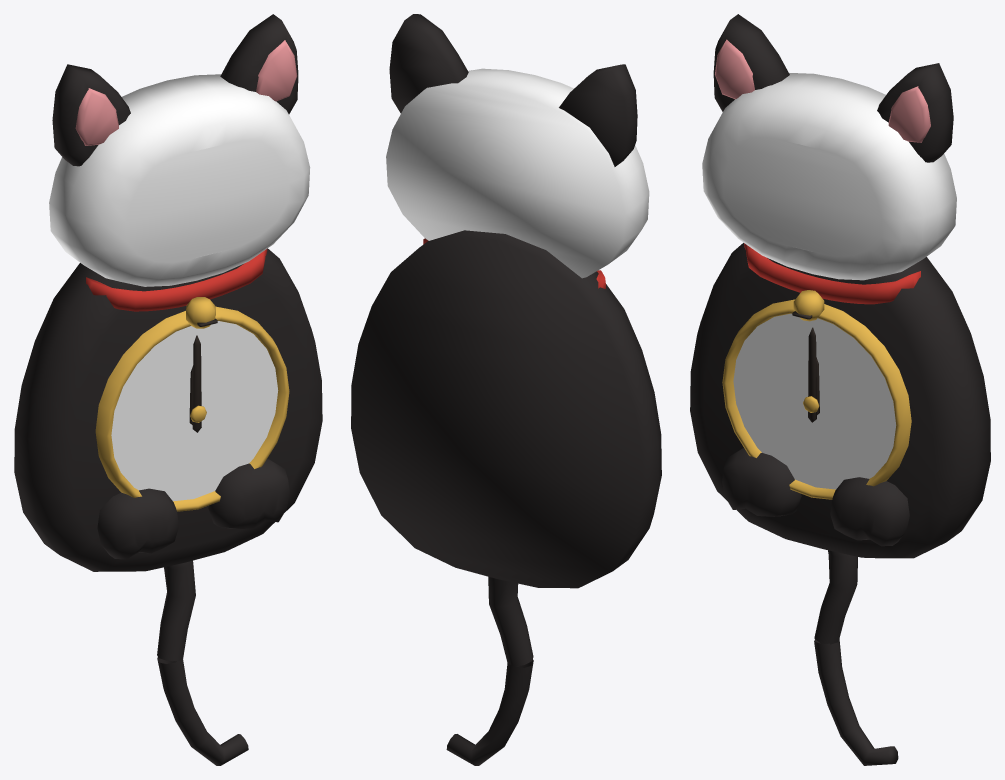
The model's file is catclock.glb.
3 renders of one model, left to right at view 1: azimuth 30°, elevation 25°; view 2: azimuth 150°, elevation 25°; view 3: azimuth 330°, elevation 25°, orthographic. The views are drawn at different scales.
Visible parts, largest first — view 1: CatClockBody, CatClockTailTip, CatClockTail, CatClockMinute; view 2: CatClockBody, CatClockTailTip, CatClockTail; view 3: CatClockBody, CatClockTailTip, CatClockTail, CatClockMinute.
Part boxes in pixels (x1,y1,x2,y2): CatClockBody: (14,14,322,571); CatClockTailTip: (157,657,248,765); CatClockTail: (157,560,195,661); CatClockMinute: (192,335,201,432); CatClockBody: (351,14,661,588); CatClockTailTip: (446,659,533,765); CatClockTail: (488,576,533,666); CatClockBody: (690,14,990,558); CatClockTailTip: (814,639,898,765); CatClockTail: (814,550,857,644); CatClockMinute: (808,327,816,422).
Size of the model in its own units: 0.2333 by 0.5628 by 0.0706.
